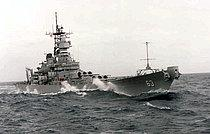Ship: (22, 26, 175, 94)
